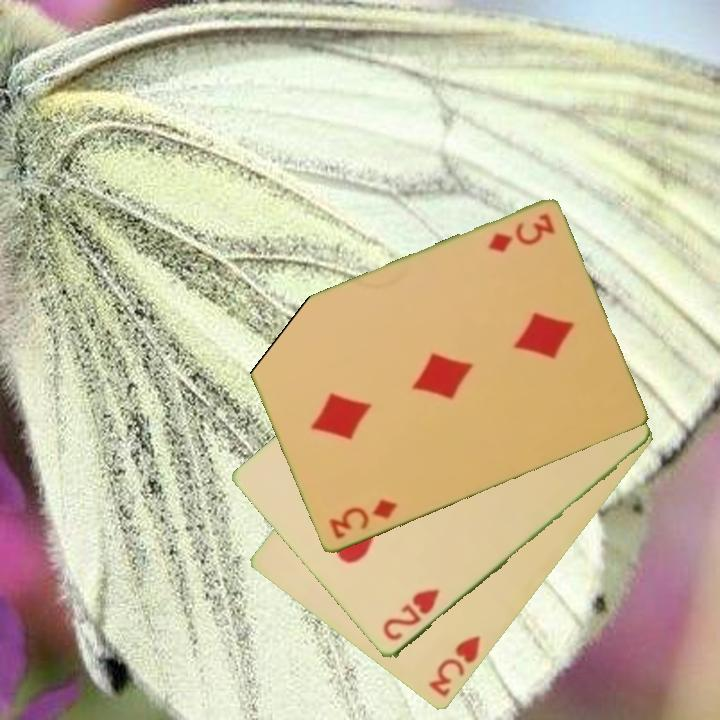2h: (379, 585, 443, 645)
3d: (325, 496, 400, 543), (484, 210, 558, 256)
3h: (425, 632, 484, 701)
